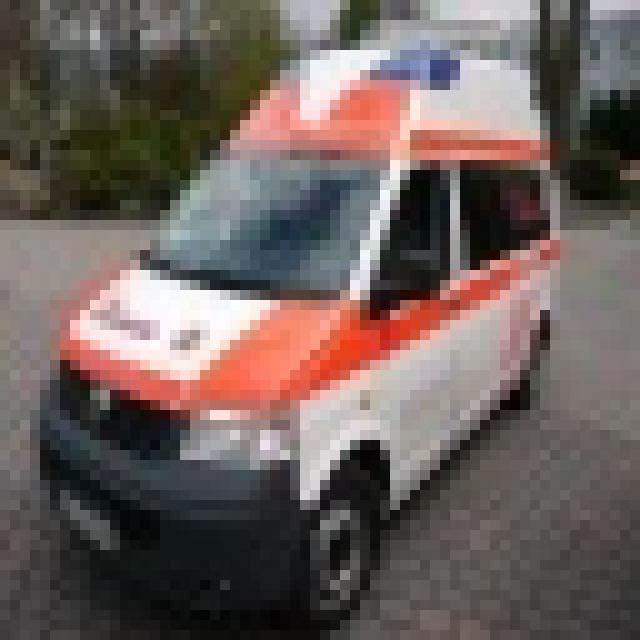ambulance: (30, 30, 560, 620)
